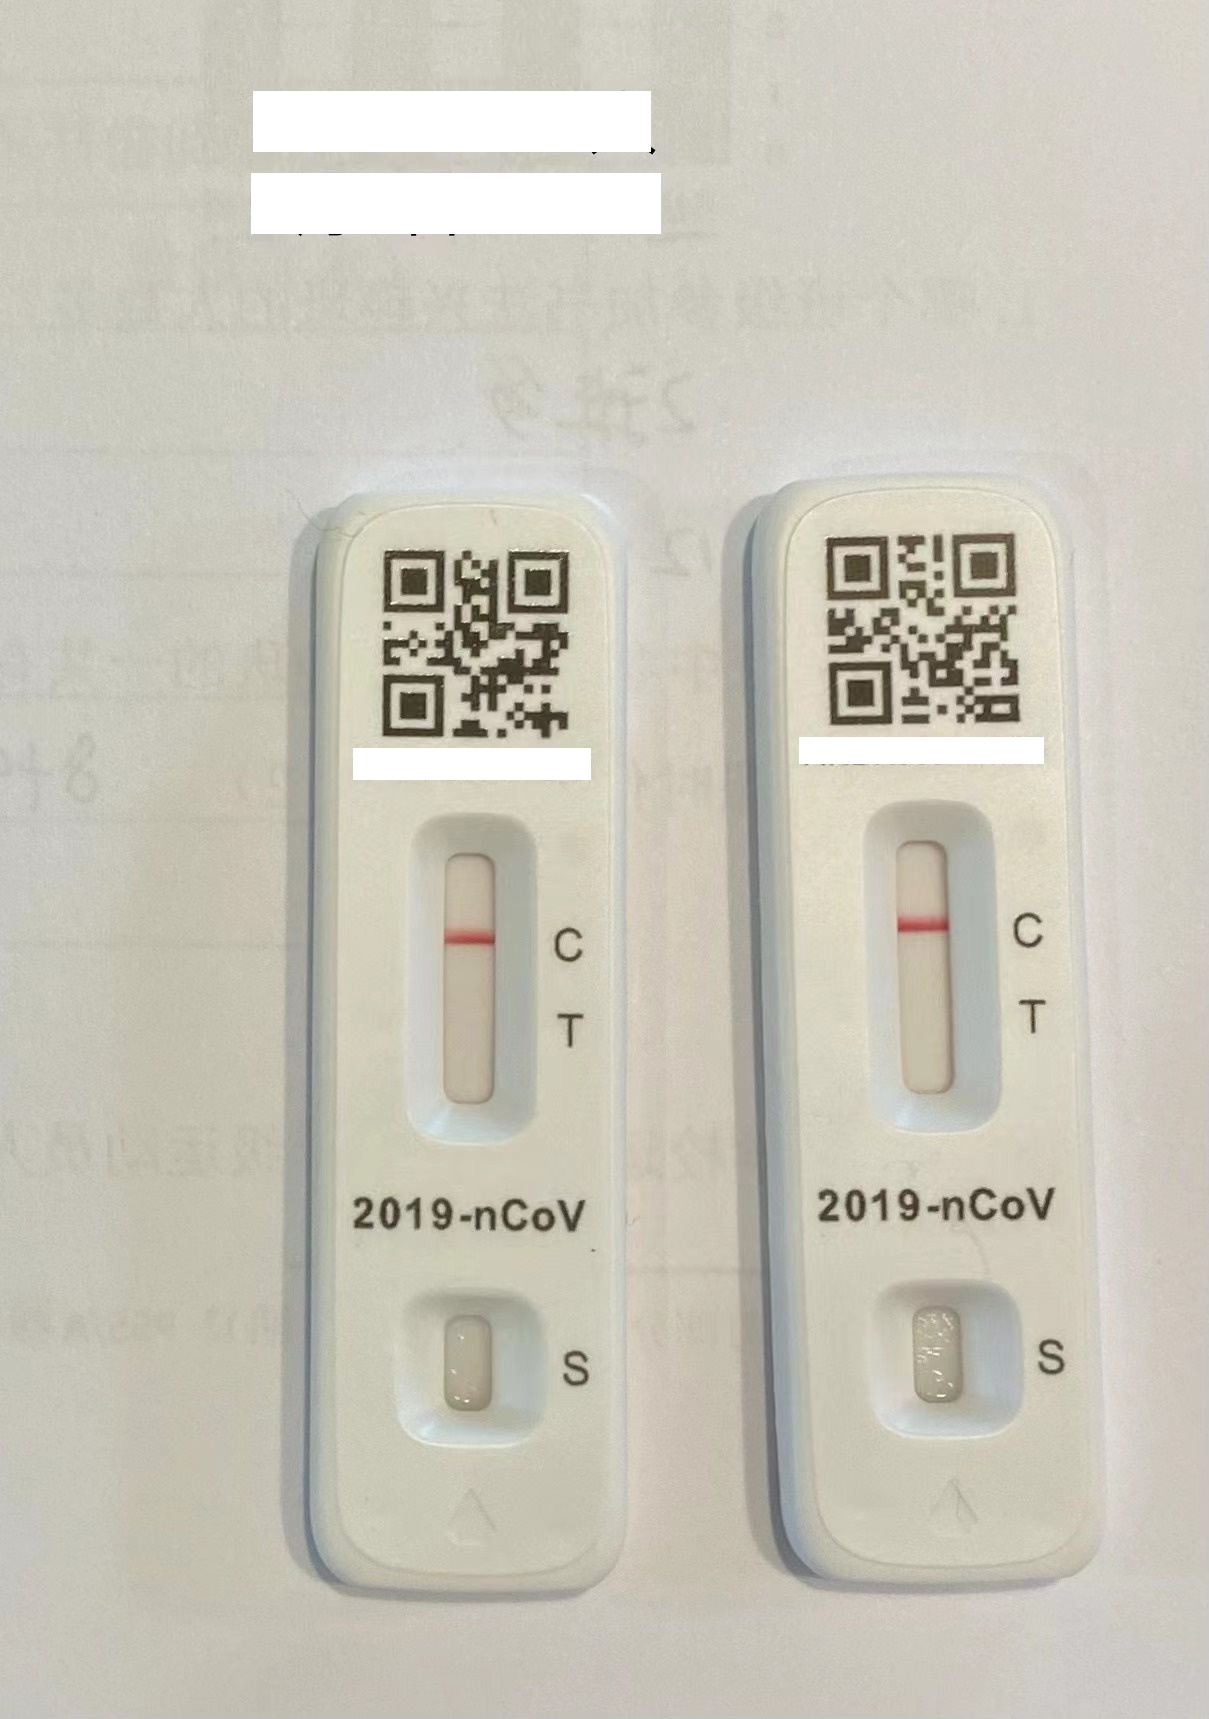negative: (864, 793, 996, 1150), (407, 810, 534, 1164)
